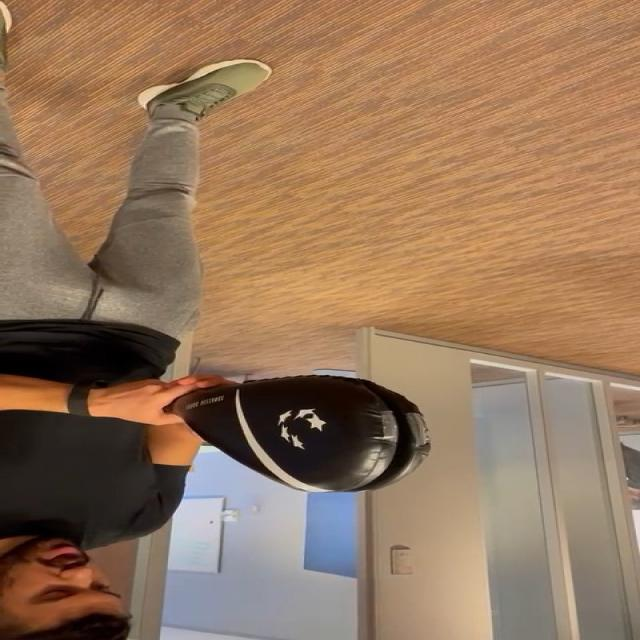paddle: (190, 382, 425, 492)
